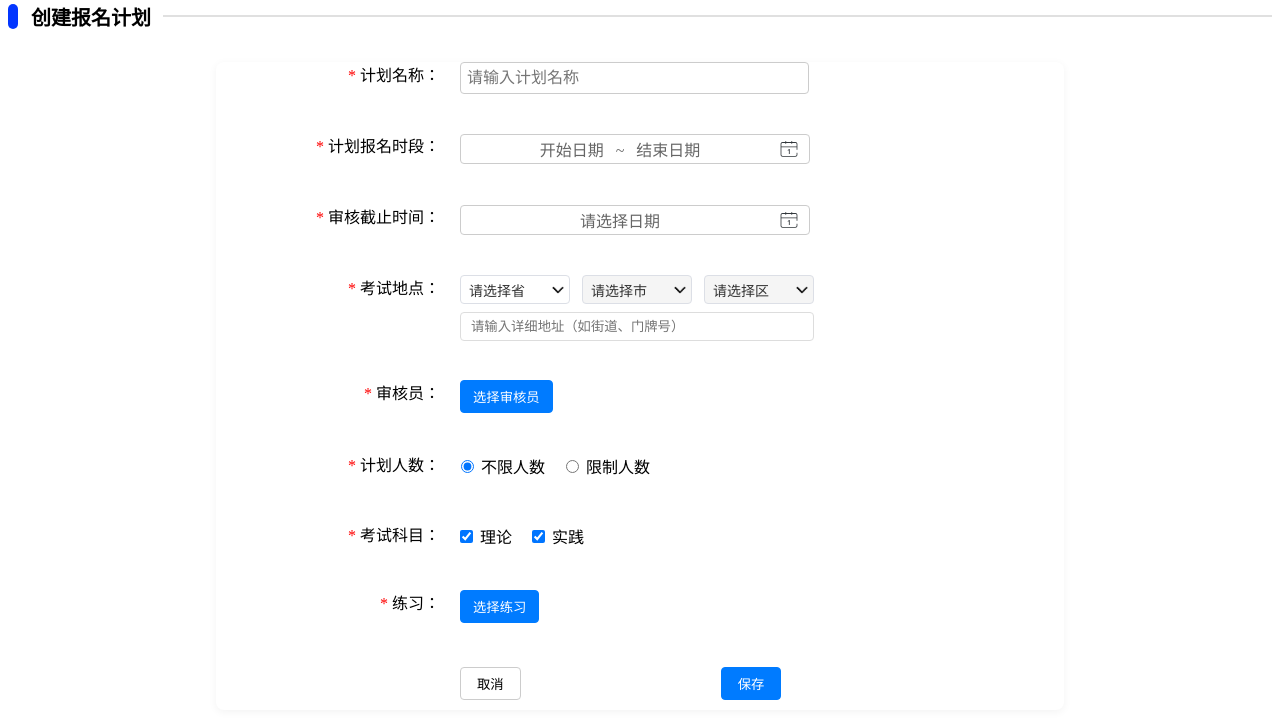
报名计划创建页面 › 表单验证测试 › 点击保存但未填写必填项时，应显示校验错误
(page scrolled)
What coordinates should you click on to do the following:
click the button "保存"
I would click on:
 (751, 684)
Its box is [721, 667, 781, 700].
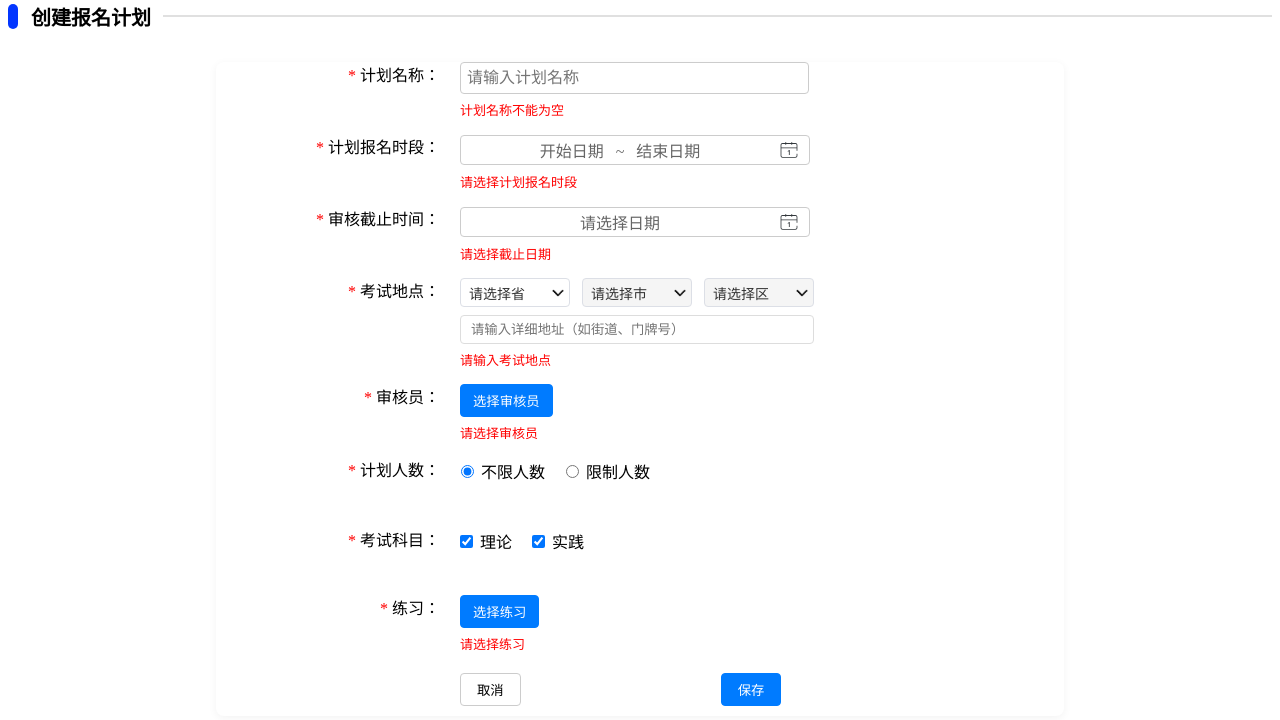
expect the text "计划名称不能为空" is shown: met, box [460, 103, 564, 118]
expect the text "请选择计划报名时段" is shown: met, box [460, 175, 577, 190]
expect the text "请选择截止日期" is shown: met, box [460, 247, 551, 262]
